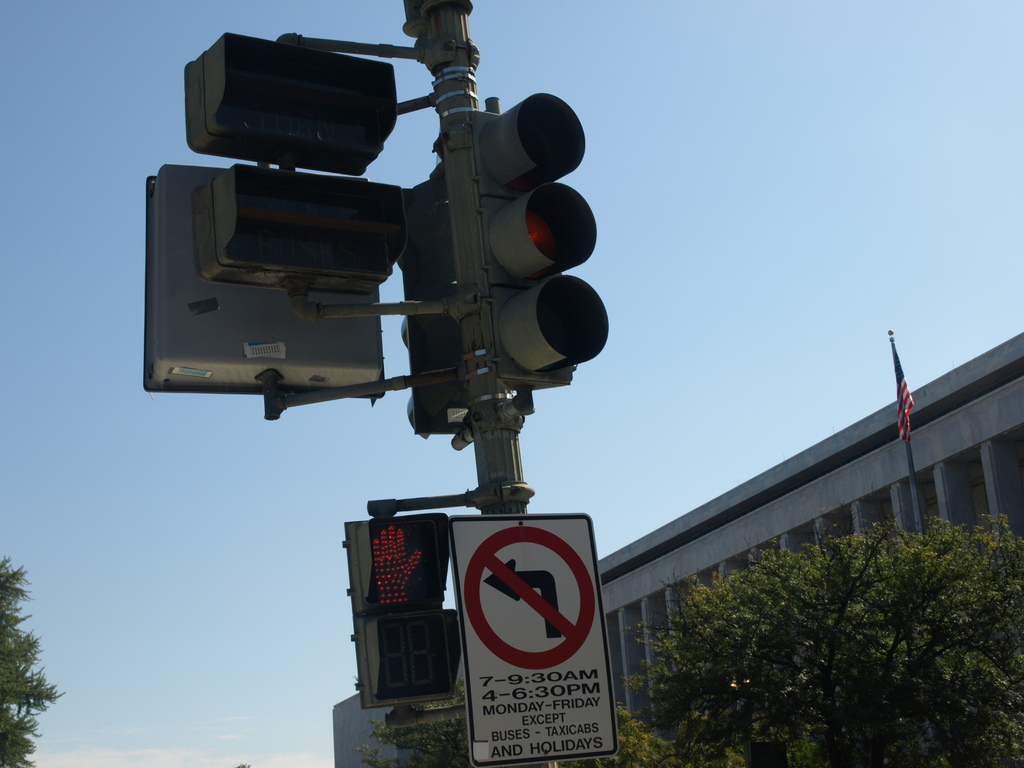no_left_turn: (454, 520, 605, 673)
red_light: (509, 191, 581, 267)
